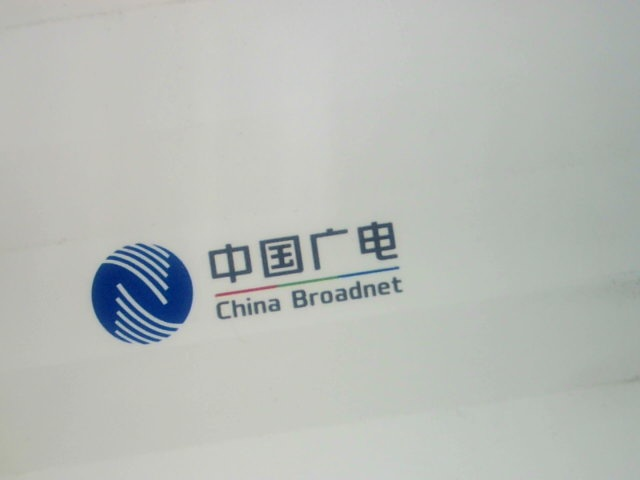AW_ChinaBroadNet: (73, 218, 417, 349)
